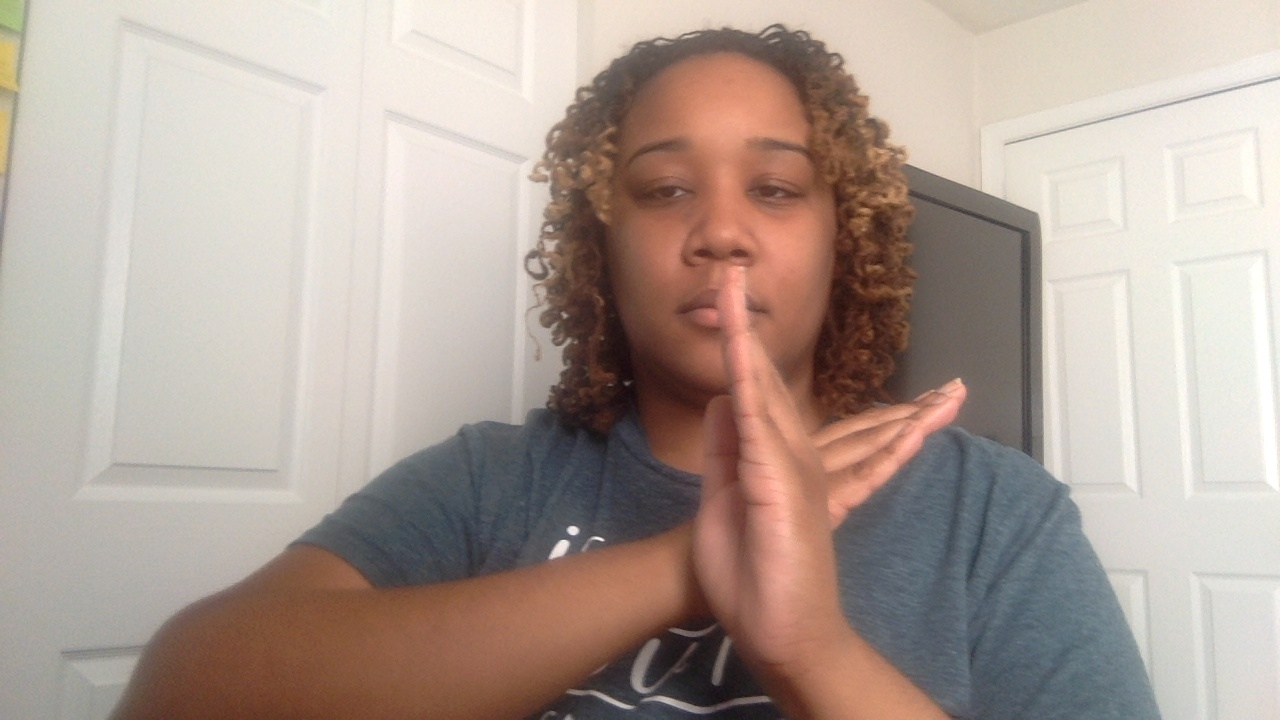quiet: (689, 261, 986, 681)
